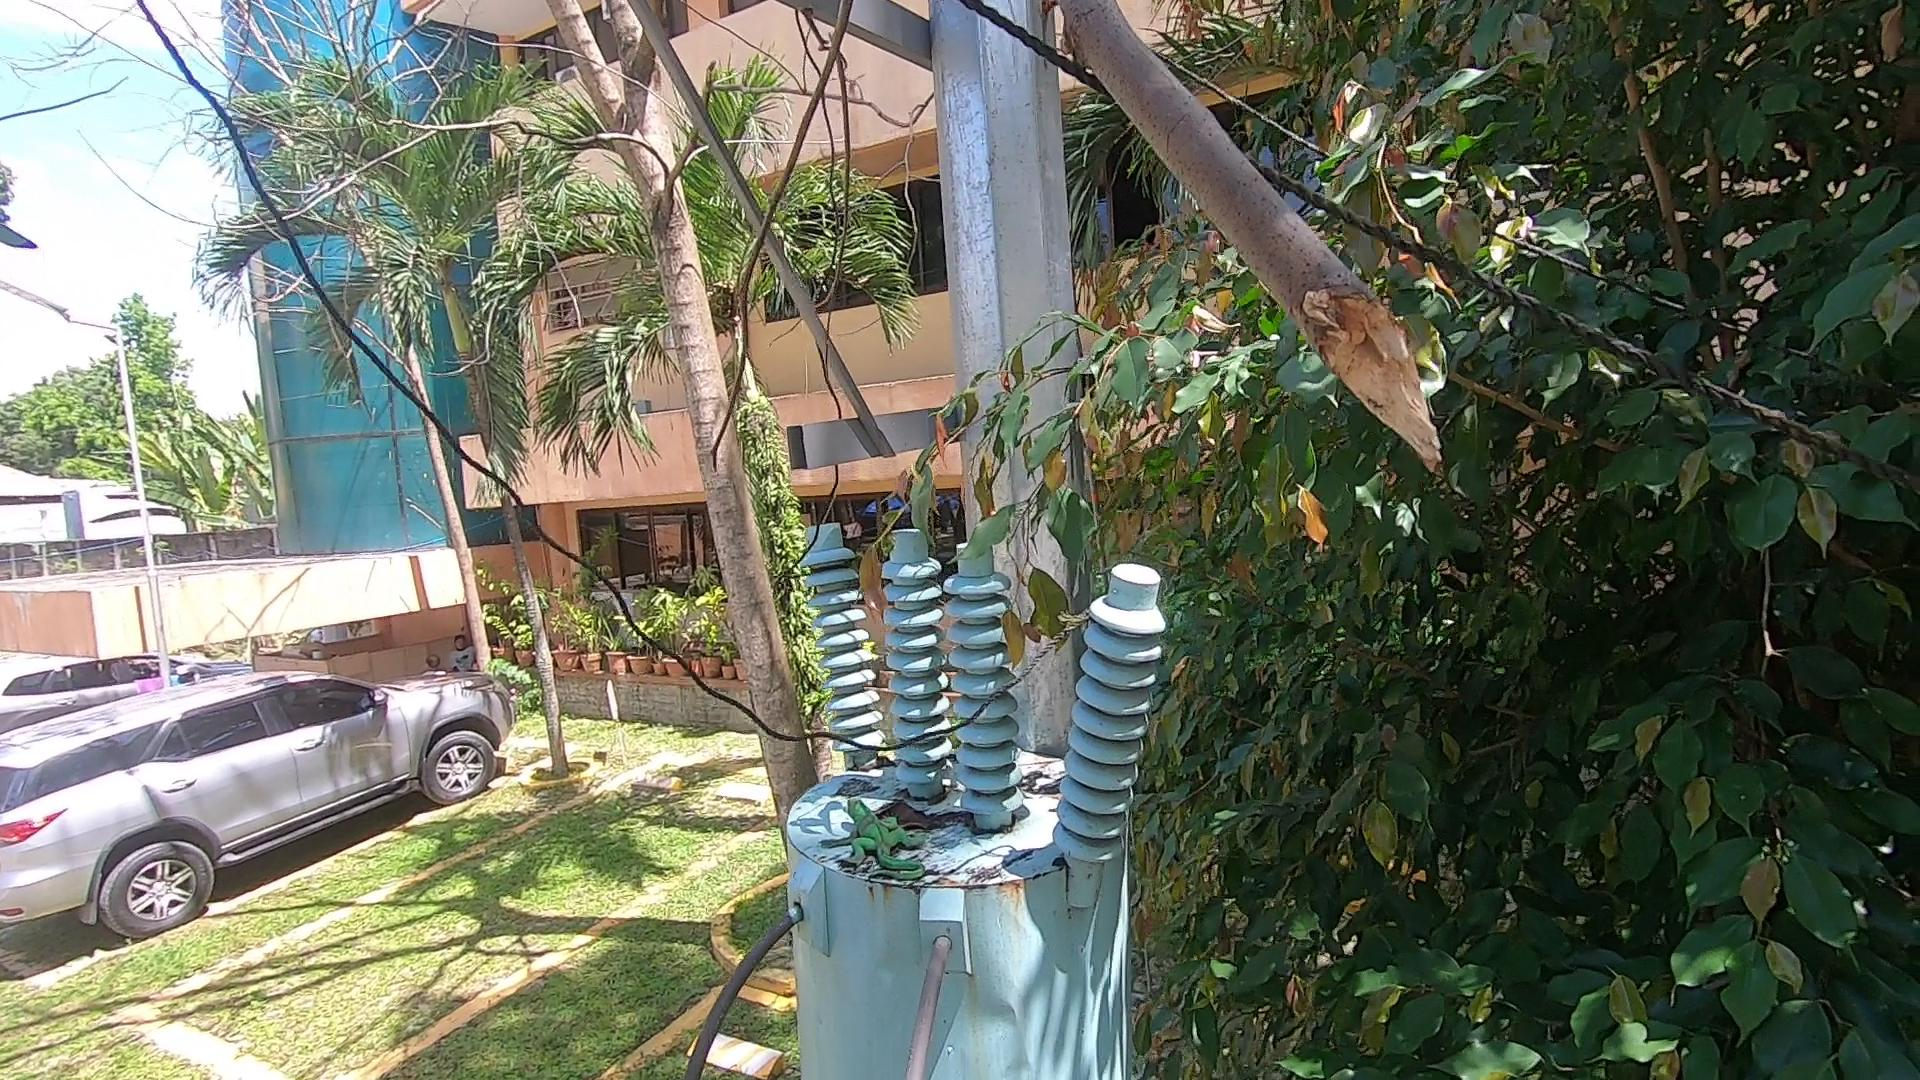branch with leaves: (844, 344, 1116, 657)
leaf: (861, 791, 988, 839), (1029, 760, 1076, 798), (852, 748, 897, 769)
tree branch: (1017, 11, 1469, 493)
